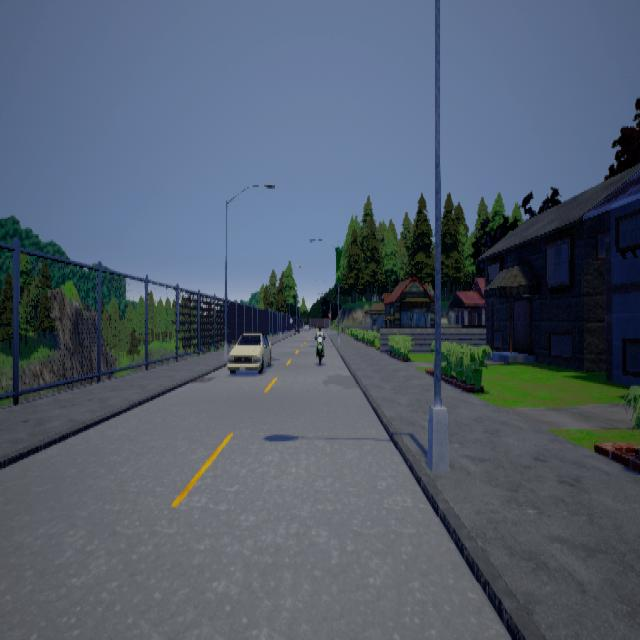motobike: (313, 325, 325, 367)
vehicle: (226, 332, 271, 372)
